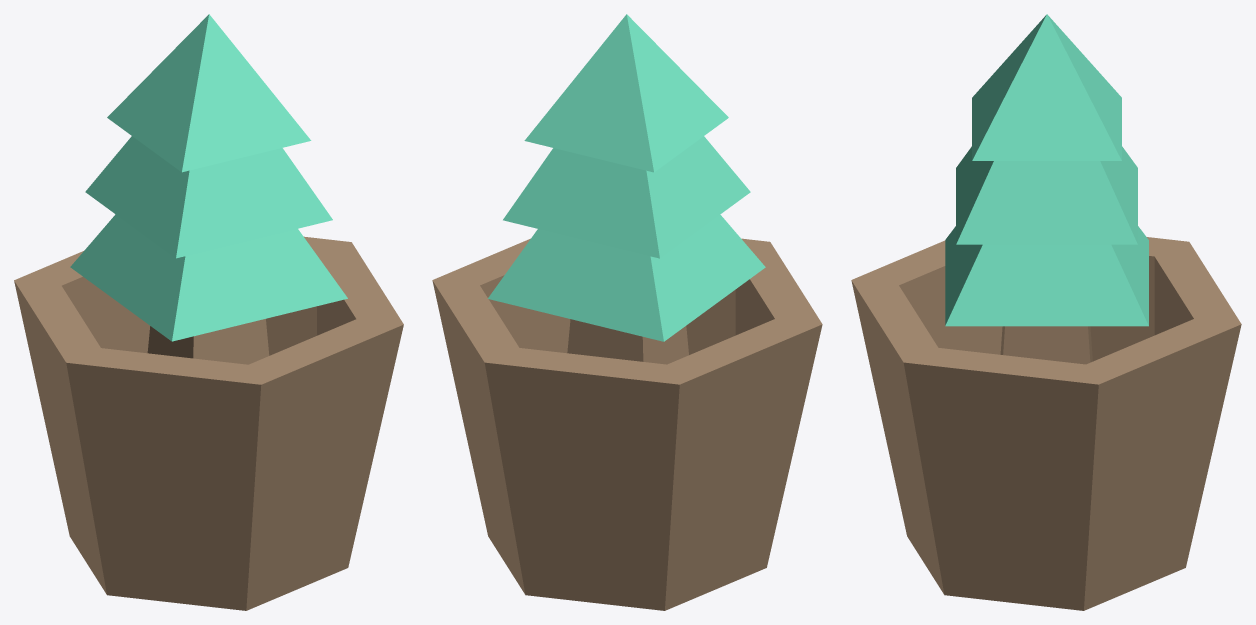
The model's file is small_plant.glb.
The picture shows the model from 3 angles, left to right: view 1: azimuth 30°, elevation 25°; view 2: azimuth 150°, elevation 25°; view 3: azimuth 270°, elevation 25°; orthographic projection.
Parts seen in each view (by area): view 1: plantSmall1(Clone); view 2: plantSmall1(Clone); view 3: plantSmall1(Clone).
Part boxes in pixels (x1,y1,x2,y2): plantSmall1(Clone): (14, 14, 403, 610); plantSmall1(Clone): (432, 14, 822, 610); plantSmall1(Clone): (851, 14, 1241, 610).
Size of the model in its own units: 0.23 by 0.35 by 0.23.
